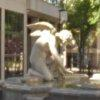Statue: (22, 9, 84, 86)
